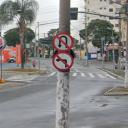NoVirarEsquerda: (51, 52, 74, 71)
NoVirarU: (51, 33, 72, 53)
